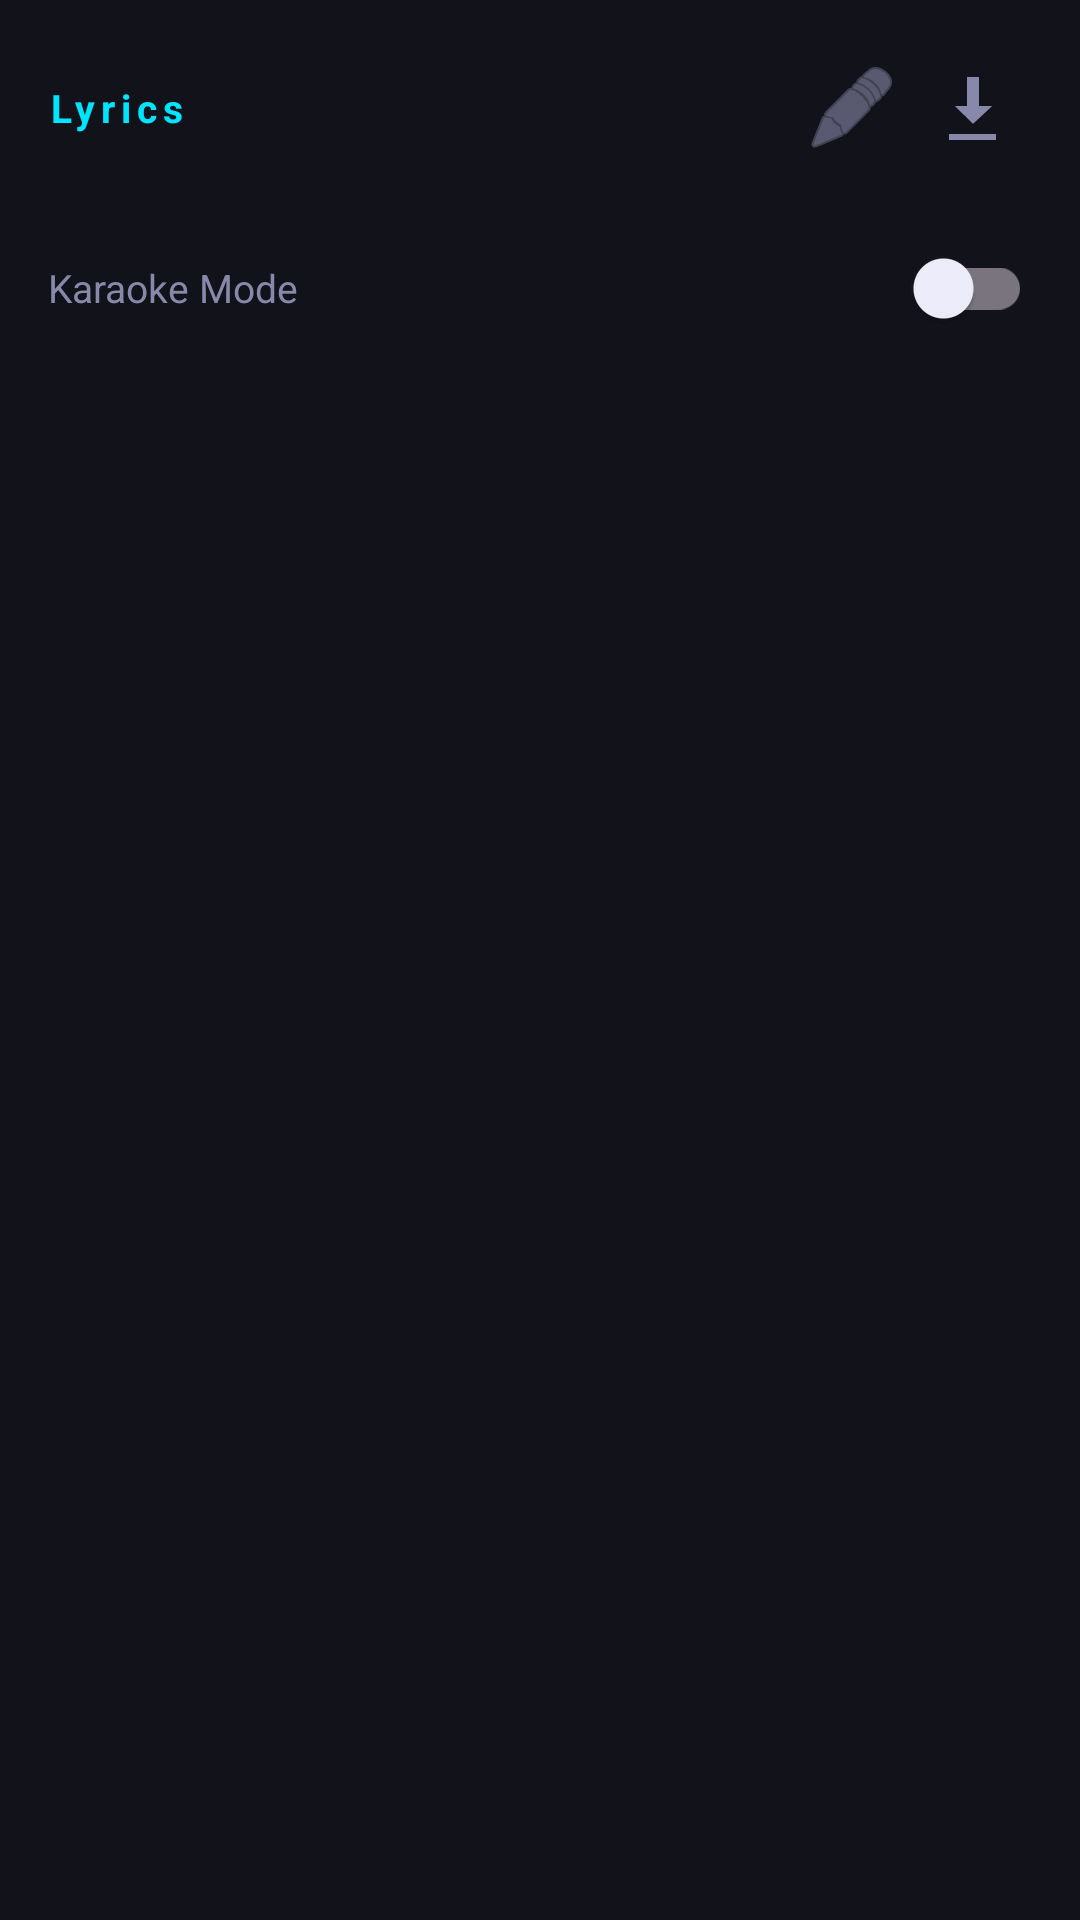

Icons on this 1080px x 1920px Android screen, each with the point to tap as point (x, y):
Edit: point (851, 107)
